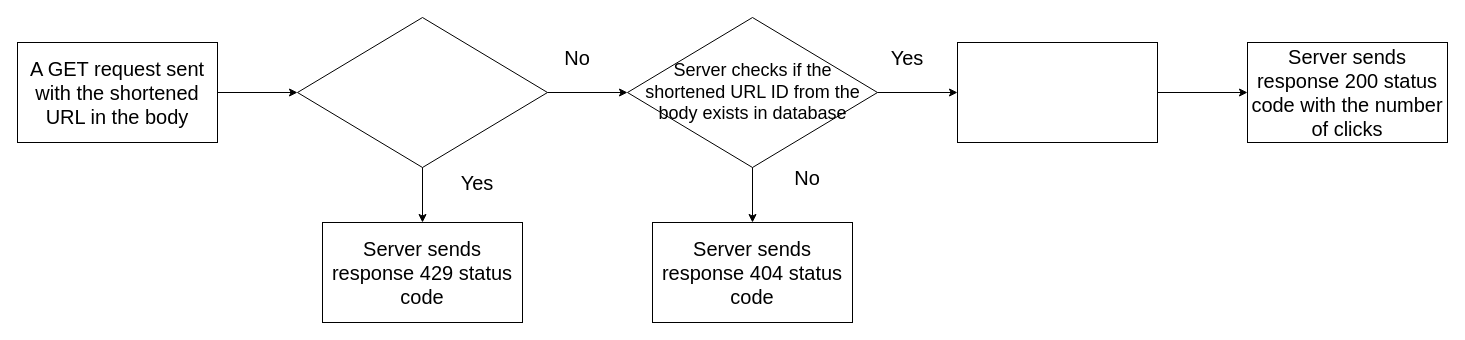
Some shapes in this 1465 by 340 pixel diagram are drawn without their labels. The shapes that lost their labels are listed below. From the top down, each one's centre as x and y in pixels, then its label:
At pixel 422 92: "Server checks if the request has already exceeded limit".
At pixel 1057 92: "Server gets the number of clicks of the URL".
